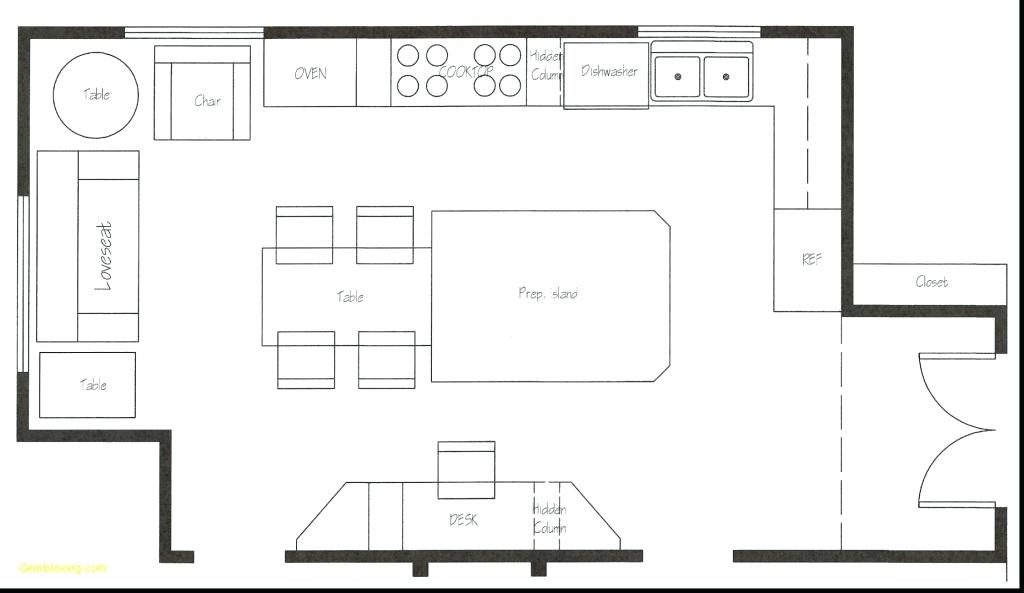door: (892, 332, 996, 529)
wall: (12, 423, 194, 565)
window: (123, 10, 263, 43), (637, 10, 762, 42), (11, 195, 33, 372)
